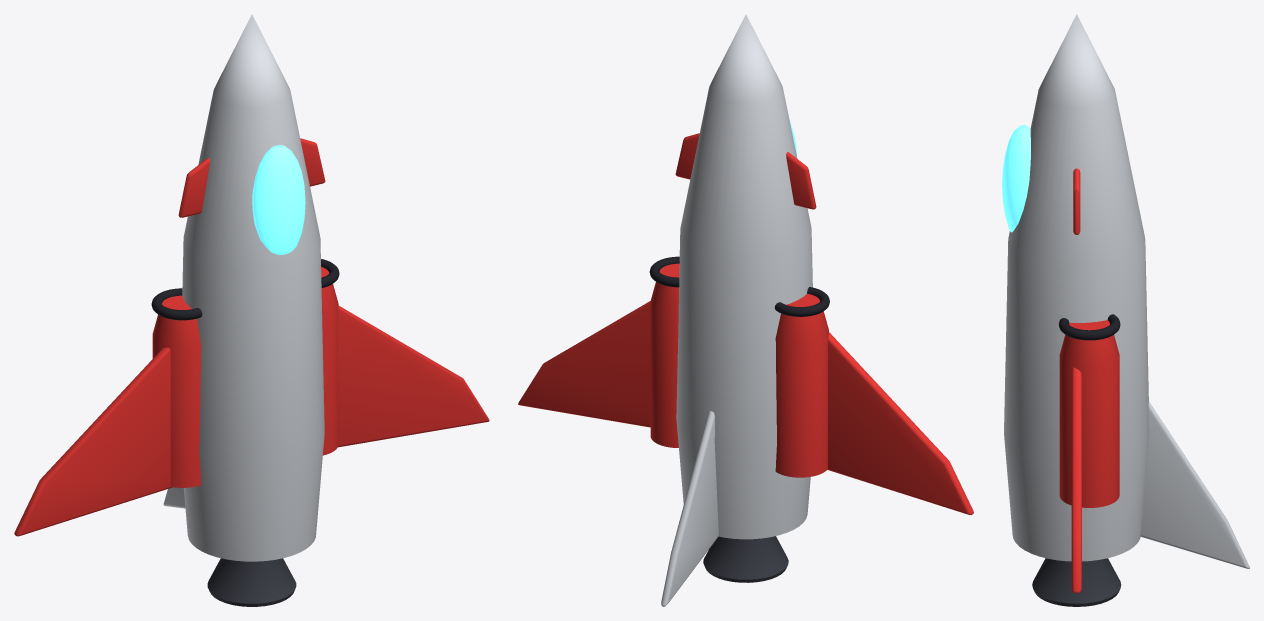
The model's file is Rocket_19_JetRocket.fbx.
3 views of the same model, side by side, from view 1: azimuth 30°, elevation 25°; view 2: azimuth 150°, elevation 25°; view 3: azimuth 270°, elevation 25° (orthographic). The views are drawn at different scales.
Parts seen in each view (by area): view 1: R19_Body, R19_Wing_2, R19_Wing, R19_Intake_2, R19_Cockpit, R19_Nozzle, R19_Intake, R19_Canard_2, R19_IntakeLip_2, R19_Canard; view 2: R19_Body, R19_Wing_2, R19_Wing, R19_Intake_2, R19_Tail, R19_Intake, R19_Nozzle, R19_Canard_2, R19_IntakeLip_2, R19_Canard; view 3: R19_Body, R19_Intake, R19_Tail, R19_Nozzle, R19_Wing, R19_Cockpit, R19_IntakeLip, R19_Canard.
Part boxes in pixels (x1,y1,x2,y2): R19_Body: (182, 14, 324, 561); R19_Wing_2: (14, 347, 172, 536); R19_Wing: (338, 306, 489, 447); R19_Intake_2: (152, 295, 201, 487); R19_Cockpit: (252, 145, 305, 254); R19_Nozzle: (207, 558, 296, 606); R19_Intake: (321, 266, 338, 455); R19_Canard_2: (178, 157, 209, 217); R19_IntakeLip_2: (151, 288, 202, 320); R19_Canard: (300, 138, 325, 186); R19_Body: (676, 14, 812, 539); R19_Wing_2: (827, 332, 973, 514); R19_Wing: (518, 301, 650, 427); R19_Intake_2: (775, 293, 828, 477); R19_Tail: (661, 411, 718, 606); R19_Intake: (650, 263, 679, 447); R19_Nozzle: (703, 536, 788, 582); R19_Canard_2: (786, 152, 816, 209); R19_IntakeLip_2: (774, 287, 829, 316); R19_Canard: (675, 133, 699, 179); R19_Body: (1004, 14, 1149, 561); R19_Intake: (1059, 320, 1119, 507); R19_Tail: (1140, 402, 1249, 568); R19_Nozzle: (1032, 558, 1121, 606); R19_Wing: (1071, 367, 1081, 593); R19_Cockpit: (1002, 125, 1030, 232); R19_IntakeLip: (1058, 314, 1120, 340); R19_Canard: (1073, 168, 1080, 234).
Size of the model in its own units: 6.37 by 7.4 by 2.89.
